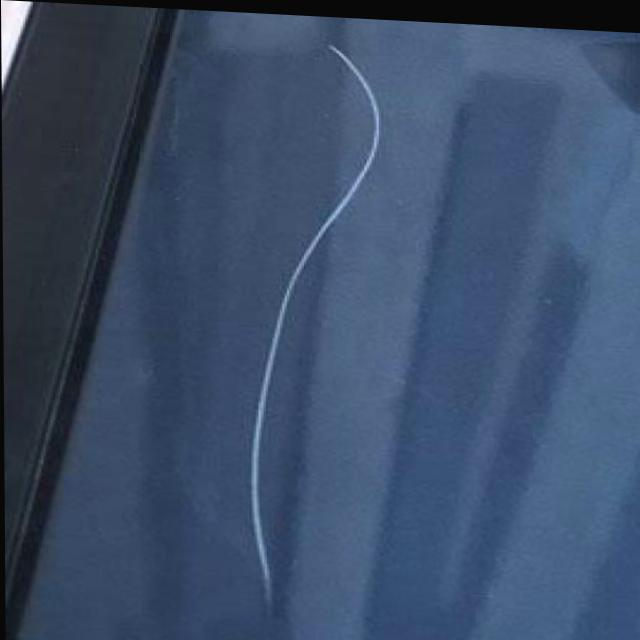Scratch: (246, 35, 396, 628)
